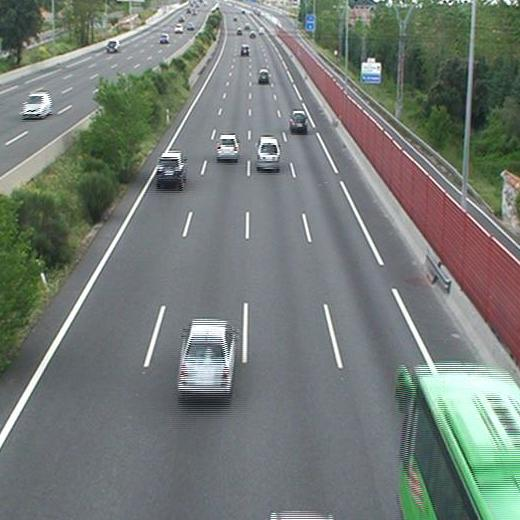car: (179, 321, 234, 393), (158, 154, 186, 183), (256, 137, 281, 169), (217, 135, 239, 160), (290, 111, 308, 129), (258, 69, 269, 82), (240, 45, 250, 56)
